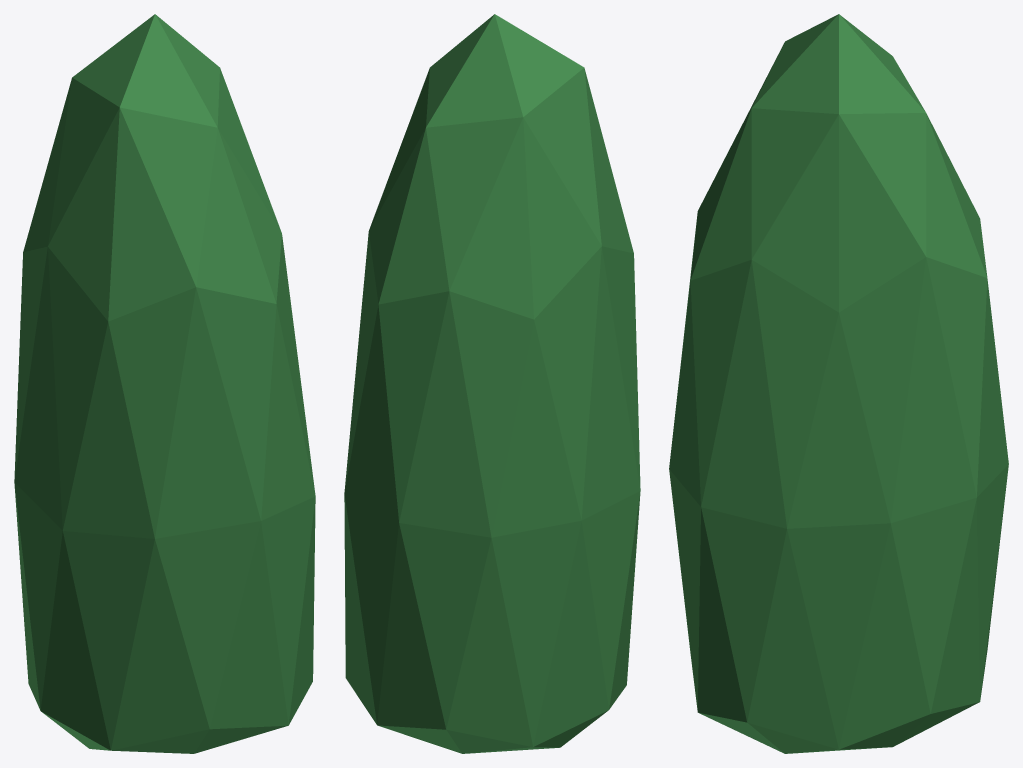
File: Bush_03.fbx
The picture shows the model from 3 angles, left to right: view 1: azimuth 30°, elevation 25°; view 2: azimuth 150°, elevation 25°; view 3: azimuth 270°, elevation 25°; orthographic projection.
Visible parts, largest first — view 1: Bush_03; view 2: Bush_03; view 3: Bush_03.
Boxes of the visible parts, x1,y1,x2,y2 form: Bush_03: (14,14,315,753); Bush_03: (344,14,640,753); Bush_03: (669,14,1008,753).
Bounding box in the file's own units: 26.58 × 76.39 × 33.03.
